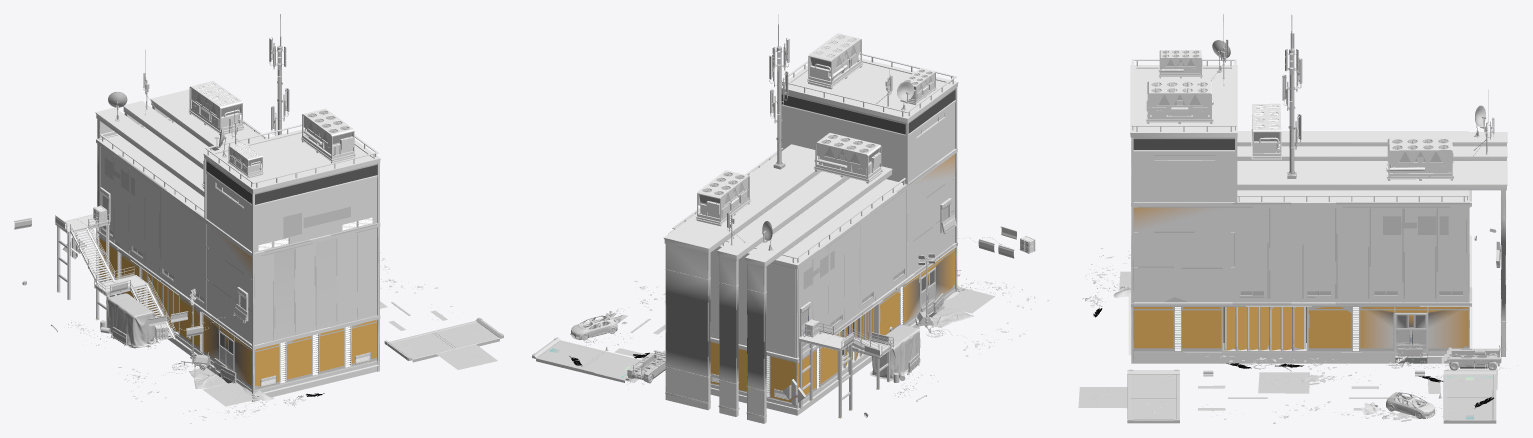
Rendered from cell_173_114.fbx.
3 renders of one model, left to right at view 1: azimuth 30°, elevation 25°; view 2: azimuth 150°, elevation 25°; view 3: azimuth 270°, elevation 25°, orthographic. The views are drawn at different scales.
Parts seen in each view (by area): view 1: SM_H_Building_FutureTech_Aerospace_01.mo.002, SM_H_Building_FutureTech_Aerospace_01_Decal.mo.002, SM_H_WalkwaySystem_MetalSupport_13.mo, SM_RoadFacility_Road_AsphaltRoad_512_01.mo.044, SM_H_FutureTech_Electrical_BigConditioners_01.mo.051, SM_H_FutureTech_Electrical_BigConditioners_01.mo.052, SM_M_Government_Office_ClothServer_01.mo.013, SM_H_FutureTech_Furniture_BaseStation_01.mo.018, SM_H_FutureTech_Electrical_BigConditioners_01.mo.053, SM_DECOR_GrassDebris_Less_01_HD.mo.1684, SM_DECOR_GrassDebris_Less_01_HD.mo.1694, AE993C3A499D5CDD60A299ABA701DBEB.mo (+1 smaller); view 2: SM_H_Building_FutureTech_Aerospace_01.mo.002, SM_H_Building_FutureTech_Aerospace_01_Decal.mo.002, SM_H_FutureTech_Electrical_BigConditioners_01.mo.050, SM_H_WalkwaySystem_MetalSupport_13.mo, SM_H_FutureTech_Electrical_BigConditioners_01.mo.051, SM_H_FutureTech_Electrical_BigConditioners_01.mo.052, SM_RoadFacility_Road_AsphaltRoad_512_01.mo.046, SM_M_Government_Office_ClothServer_01.mo.013, SM_H_FutureTech_Furniture_BaseStation_01.mo.018, SM_Industrial_Vehicle_AerialWorkPlatform_01.mo.002, SM_FutureTech_Vehicle_ConceptCar_01_B.mo.010, SM_DECOR_GrassDebris_Less_01_HD.mo.1694 (+3 smaller); view 3: SM_H_Building_FutureTech_Aerospace_01.mo.002, SM_H_Building_FutureTech_Aerospace_01_Decal.mo.002, SM_H_FutureTech_Electrical_BigConditioners_01.mo.051, SM_RoadFacility_Road_AsphaltRoad_512_01.mo.044, SM_H_FutureTech_Electrical_BigConditioners_01.mo.052, SM_RoadFacility_Road_AsphaltRoad_512_01.mo.046, SM_H_FutureTech_Electrical_BigConditioners_01.mo.050, SM_H_FutureTech_Furniture_BaseStation_01.mo.018, SM_H_FutureTech_Electrical_BigConditioners_01.mo.053, SM_Industrial_Vehicle_AerialWorkPlatform_01.mo.002, SM_DECOR_GrassDebris_Less_01_HD.mo.1686, SM_DECOR_GrassDebris_Less_01_HD.mo.1684 (+2 smaller).
Boxes of the visible parts, <box> form: SM_H_Building_FutureTech_Aerospace_01.mo.002: <box>95,89,380,402</box>; SM_H_Building_FutureTech_Aerospace_01_Decal.mo.002: <box>97,106,379,393</box>; SM_H_WalkwaySystem_MetalSupport_13.mo: <box>56,214,175,343</box>; SM_RoadFacility_Road_AsphaltRoad_512_01.mo.044: <box>384,317,503,362</box>; SM_H_FutureTech_Electrical_BigConditioners_01.mo.051: <box>301,108,355,163</box>; SM_H_FutureTech_Electrical_BigConditioners_01.mo.052: <box>188,81,243,135</box>; SM_M_Government_Office_ClothServer_01.mo.013: <box>106,293,156,348</box>; SM_H_FutureTech_Furniture_BaseStation_01.mo.018: <box>269,14,289,135</box>; SM_H_FutureTech_Electrical_BigConditioners_01.mo.053: <box>228,142,263,177</box>; SM_DECOR_GrassDebris_Less_01_HD.mo.1684: <box>436,344,497,369</box>; SM_DECOR_GrassDebris_Less_01_HD.mo.1694: <box>203,382,263,406</box>; AE993C3A499D5CDD60A299ABA701DBEB.mo: <box>303,206,350,228</box>; SM_H_Building_FutureTech_Aerospace_01.mo.002: <box>664,52,958,423</box>; SM_H_Building_FutureTech_Aerospace_01_Decal.mo.002: <box>665,154,957,419</box>; SM_H_FutureTech_Electrical_BigConditioners_01.mo.050: <box>814,133,882,183</box>; SM_H_WalkwaySystem_MetalSupport_13.mo: <box>798,331,891,418</box>; SM_H_FutureTech_Electrical_BigConditioners_01.mo.051: <box>807,33,863,89</box>; SM_H_FutureTech_Electrical_BigConditioners_01.mo.052: <box>696,170,750,226</box>; SM_RoadFacility_Road_AsphaltRoad_512_01.mo.046: <box>532,337,640,382</box>; SM_M_Government_Office_ClothServer_01.mo.013: <box>870,324,920,380</box>; SM_H_FutureTech_Furniture_BaseStation_01.mo.018: <box>769,14,789,169</box>; SM_Industrial_Vehicle_AerialWorkPlatform_01.mo.002: <box>627,350,665,383</box>; SM_FutureTech_Vehicle_ConceptCar_01_B.mo.010: <box>570,315,617,340</box>; SM_DECOR_GrassDebris_Less_01_HD.mo.1694: <box>942,286,994,313</box>; SM_H_Building_FutureTech_Aerospace_01.mo.002: <box>1128,59,1507,363</box>; SM_H_Building_FutureTech_Aerospace_01_Decal.mo.002: <box>1131,142,1505,362</box>; SM_H_FutureTech_Electrical_BigConditioners_01.mo.051: <box>1146,81,1213,123</box>; SM_RoadFacility_Road_AsphaltRoad_512_01.mo.044: <box>1127,369,1179,423</box>; SM_H_FutureTech_Electrical_BigConditioners_01.mo.052: <box>1386,138,1454,180</box>; SM_RoadFacility_Road_AsphaltRoad_512_01.mo.046: <box>1443,369,1496,423</box>; SM_H_FutureTech_Electrical_BigConditioners_01.mo.050: <box>1251,103,1281,160</box>; SM_H_FutureTech_Furniture_BaseStation_01.mo.018: <box>1282,15,1302,178</box>; SM_H_FutureTech_Electrical_BigConditioners_01.mo.053: <box>1158,50,1202,78</box>; SM_Industrial_Vehicle_AerialWorkPlatform_01.mo.002: <box>1441,345,1501,370</box>; SM_DECOR_GrassDebris_Less_01_HD.mo.1686: <box>1258,372,1309,393</box>; SM_DECOR_GrassDebris_Less_01_HD.mo.1684: <box>1078,387,1127,408</box>.
Size of the model in its own units: 41.93 by 36.1 by 42.88.
